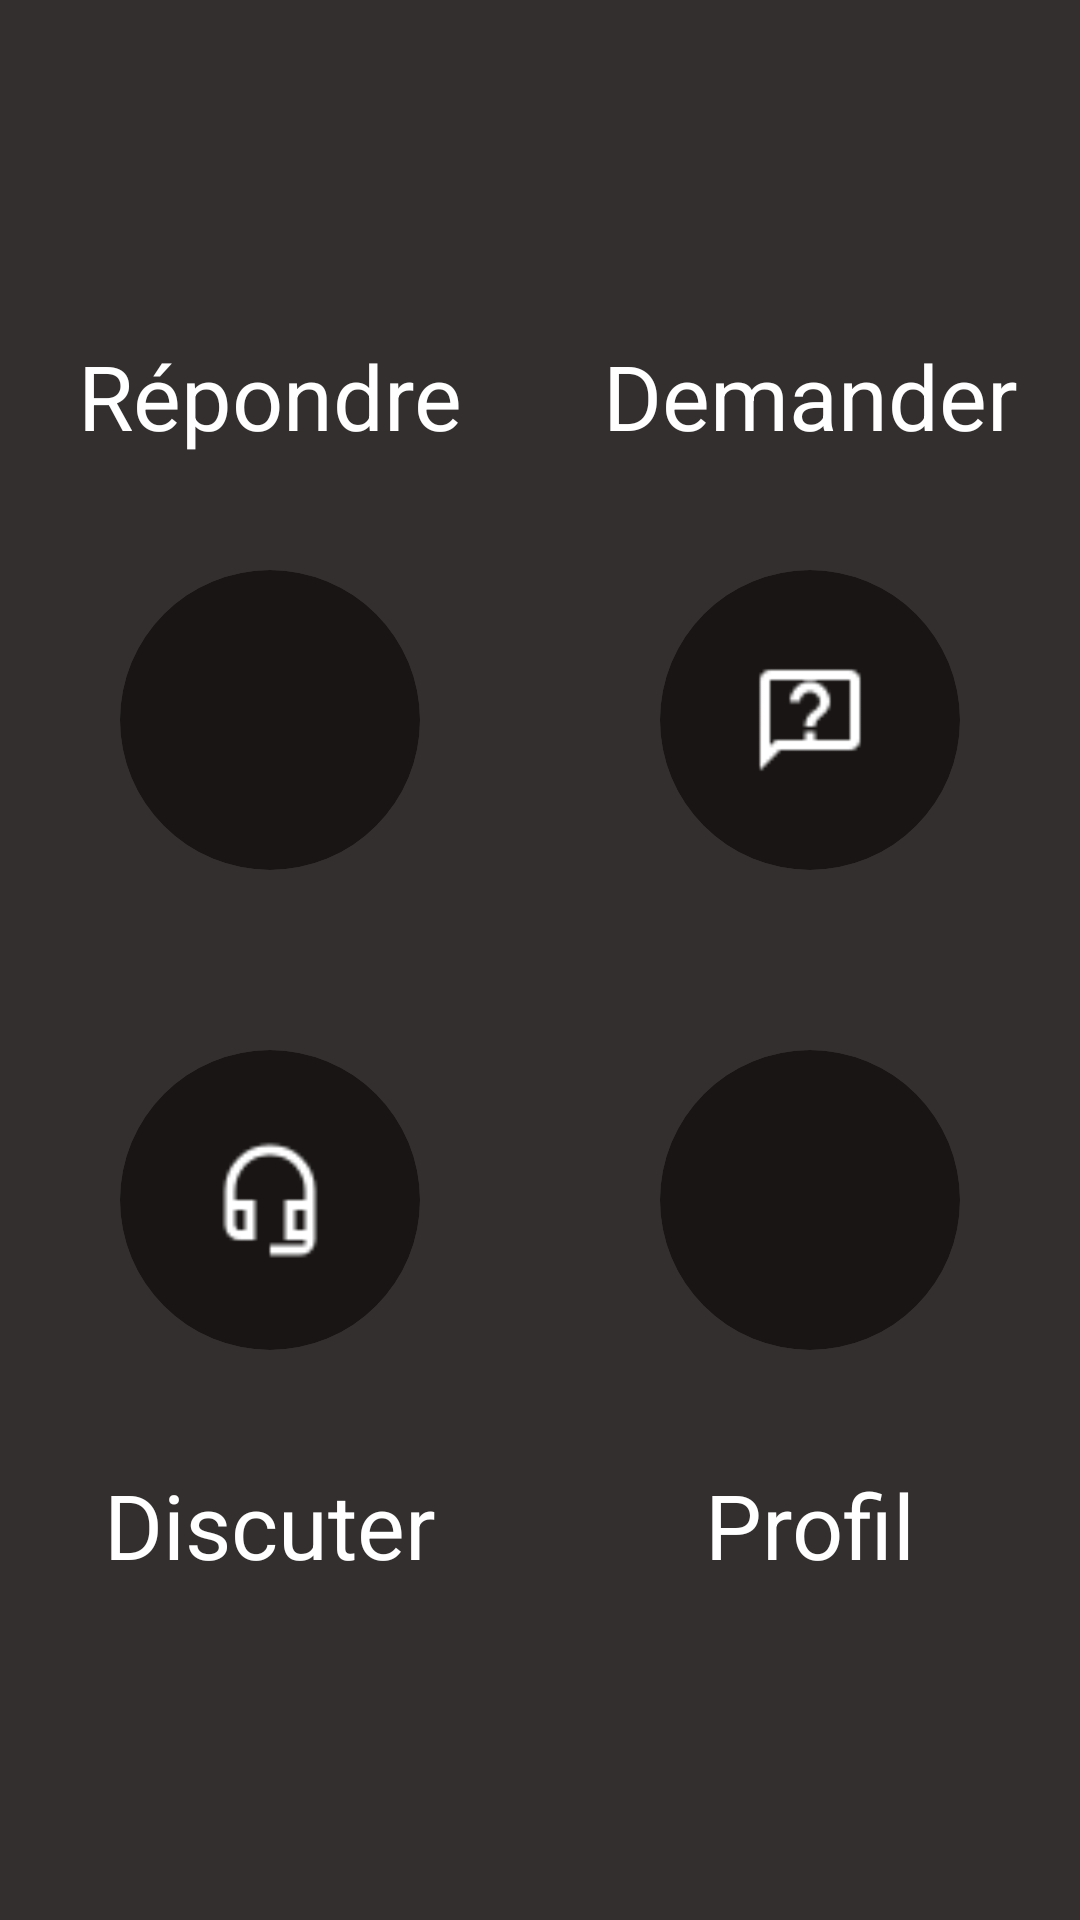

Where to tap for icons on this 1080*1920 app screen, as point (x, y):
ask: point (810, 720)
headset mic: point (270, 1200)
